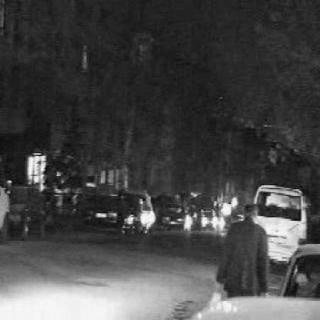other: (187, 191, 230, 230), (138, 208, 158, 232)
